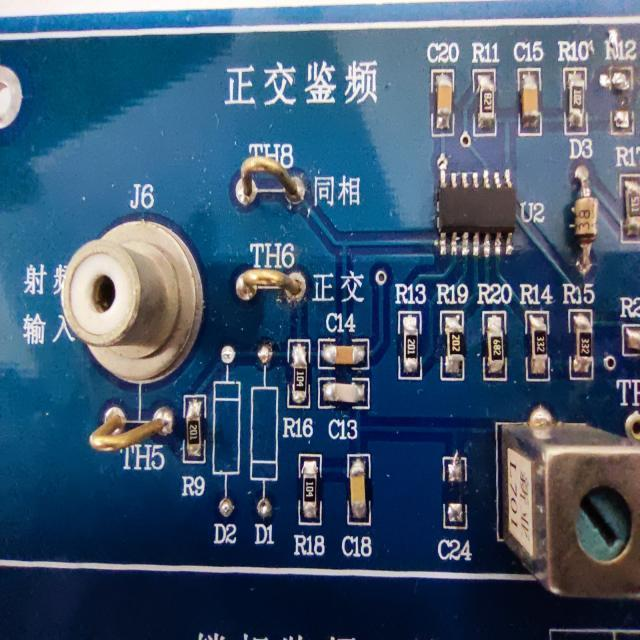Missing component: (246, 342, 284, 556), (212, 340, 245, 551), (432, 450, 477, 572), (601, 34, 640, 144)
